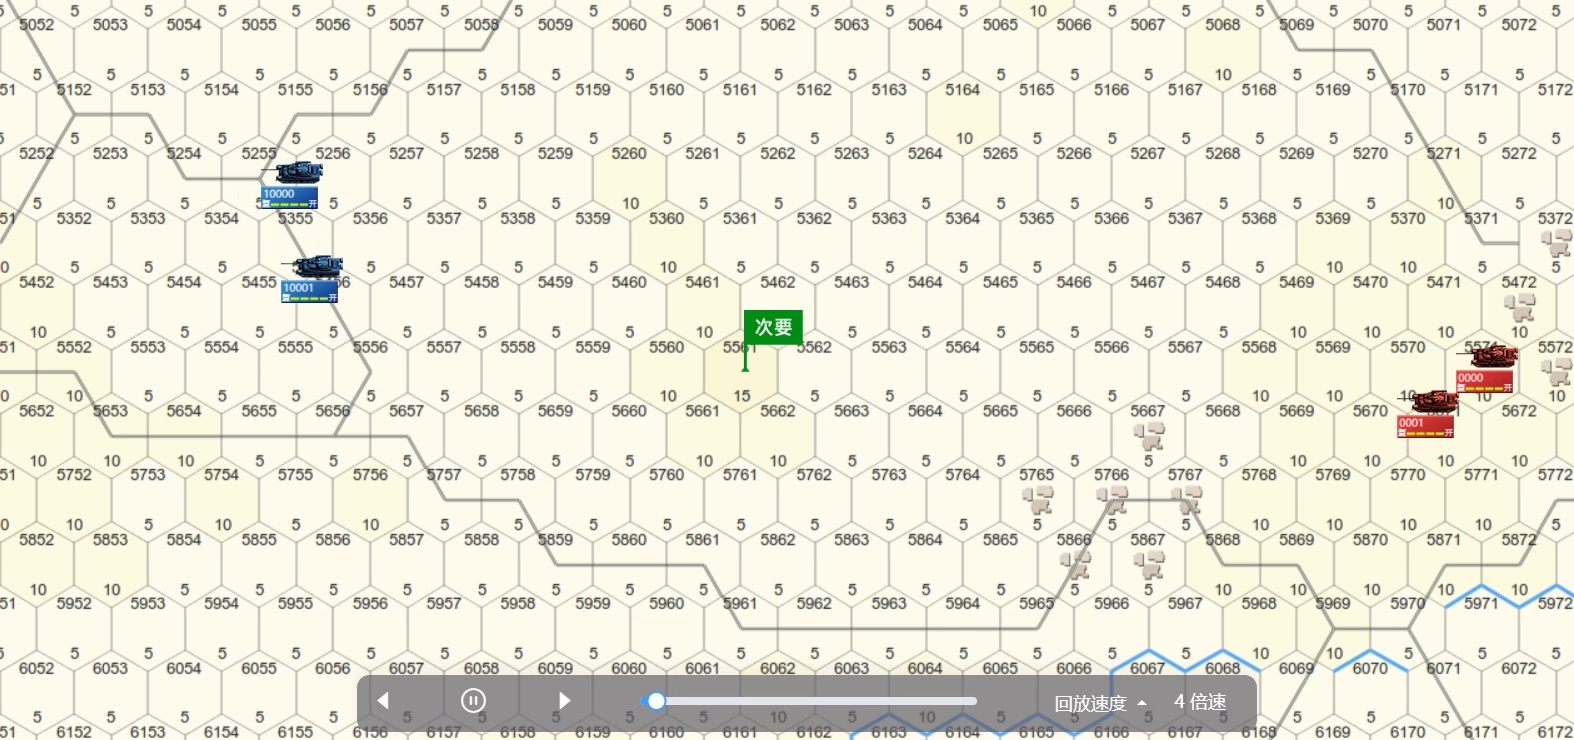blue_tank: (262, 160, 324, 204), (284, 259, 345, 303)
red_tank: (1402, 391, 1459, 444), (1459, 343, 1517, 389)
